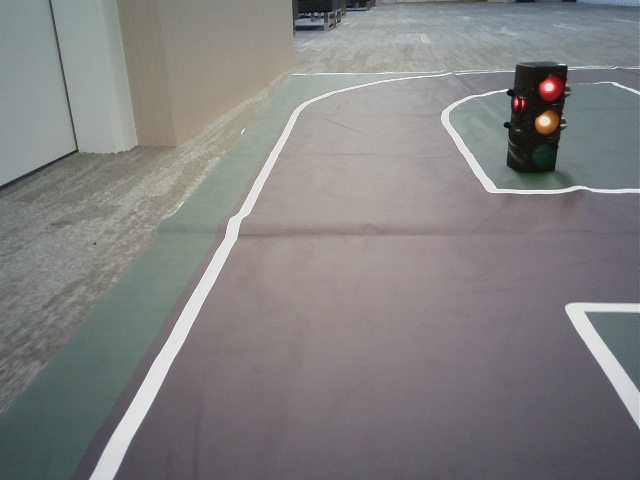red: (530, 69, 562, 170)
